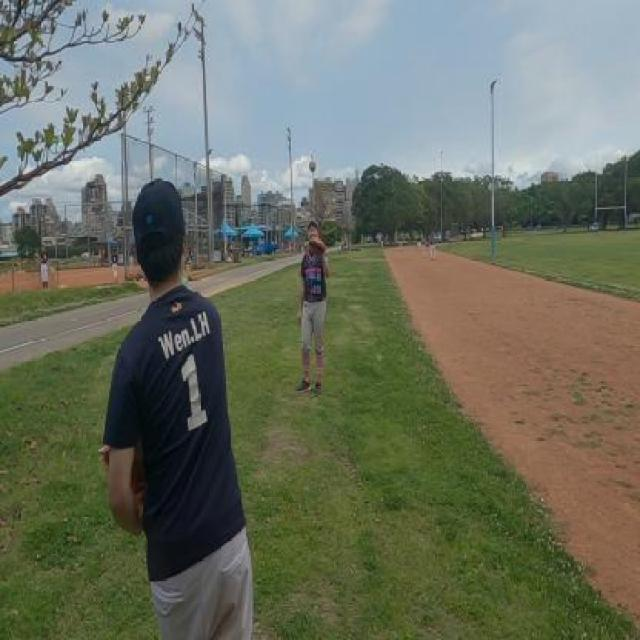baseball: (309, 159, 316, 172)
